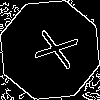X: (25, 25, 78, 70)
